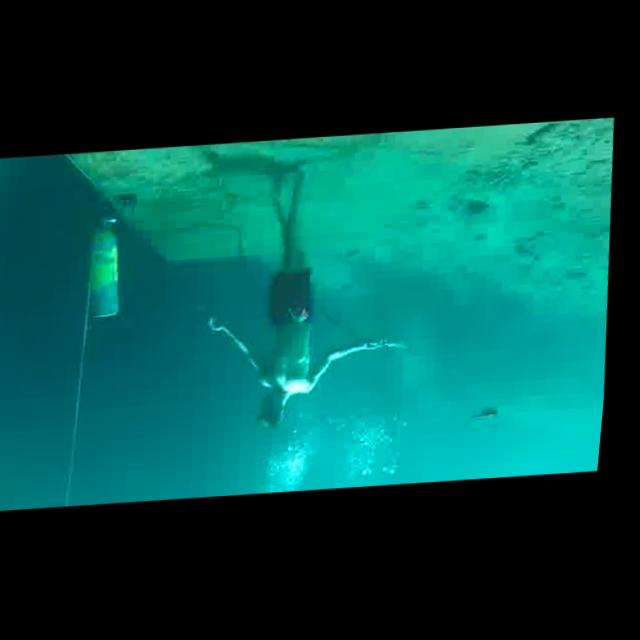human: (195, 152, 418, 443)
